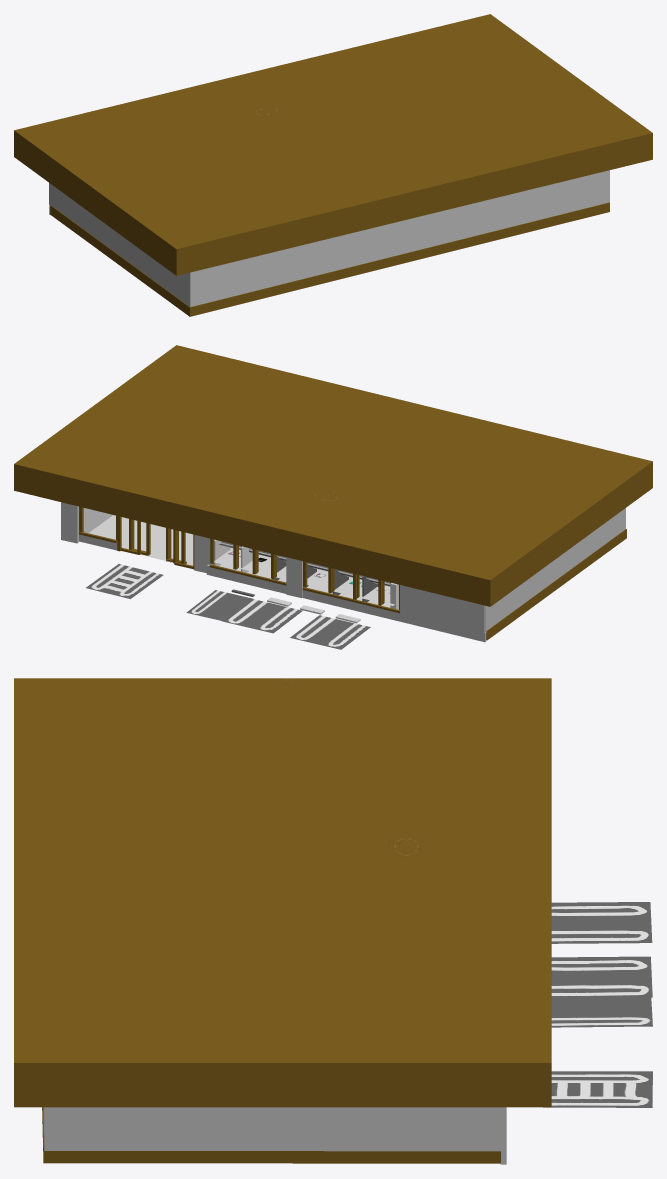
Rendered from store.FBX.
The picture shows the model from 3 angles, top to bottom: view 1: azimuth 30°, elevation 25°; view 2: azimuth 150°, elevation 25°; view 3: azimuth 270°, elevation 25°; orthographic projection. The views are drawn at different scales.
Parts seen in each view (by area): view 1: Box039, Wall001, Wall011; view 2: Box039, Wall001, Wall015, Wall017, Plane002, Plane013, Plane012, Plane010, Wall011, Plane007, Plane011, Wall026 (+3 smaller); view 3: Box039, Wall001, Wall011, Plane013, Plane012, Plane010, Plane011.
Boxes of the visible parts, box(x1,y1,x2,y2) form: Box039: box(14, 14, 652, 275); Wall001: box(50, 170, 609, 307); Wall011: box(50, 202, 609, 316); Box039: box(14, 345, 652, 606); Wall001: box(485, 508, 625, 632); Wall015: box(400, 585, 485, 633); Wall017: box(206, 564, 486, 642); Plane002: box(88, 515, 511, 638); Plane013: box(290, 615, 370, 649); Plane012: box(222, 599, 302, 633); Plane010: box(86, 564, 163, 598); Wall011: box(486, 529, 626, 640); Plane007: box(214, 550, 394, 605); Plane011: box(186, 590, 252, 621); Wall026: box(61, 502, 78, 543); Box039: box(14, 678, 551, 1107); Wall001: box(43, 1107, 503, 1151); Wall011: box(42, 1107, 500, 1163); Plane013: box(551, 902, 652, 943); Plane012: box(551, 956, 652, 998); Plane010: box(543, 1071, 652, 1107); Plane011: box(551, 996, 652, 1027).
Size of the model in its own units: 361 by 254 by 56.71.
